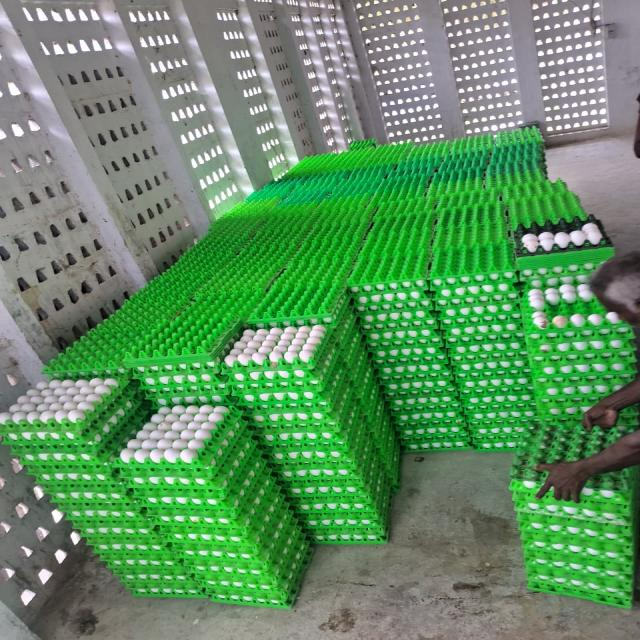egg_tray: (14, 398, 151, 544), (45, 258, 198, 378), (133, 448, 293, 556), (135, 451, 293, 551), (257, 384, 397, 482), (229, 316, 369, 412), (11, 396, 147, 492), (230, 316, 372, 406), (2, 384, 139, 474), (509, 410, 636, 501), (125, 288, 260, 372), (6, 389, 140, 472), (131, 221, 252, 312), (519, 514, 636, 606), (251, 391, 395, 465), (185, 450, 298, 544), (136, 452, 279, 526), (102, 261, 205, 362), (130, 224, 244, 315), (134, 454, 278, 524), (518, 503, 636, 587), (143, 219, 259, 304), (442, 302, 530, 413), (132, 455, 273, 524), (510, 406, 637, 481), (518, 512, 636, 591), (27, 420, 132, 508), (121, 430, 254, 499), (150, 482, 295, 545), (348, 186, 434, 292), (161, 501, 300, 566), (119, 405, 239, 478), (149, 220, 254, 303), (125, 318, 237, 394), (43, 304, 157, 378), (210, 220, 294, 319), (150, 486, 293, 544), (193, 539, 311, 608), (29, 432, 131, 510), (224, 182, 317, 266), (195, 542, 311, 608), (348, 210, 433, 300), (203, 538, 311, 608), (194, 543, 310, 608), (228, 350, 353, 410), (510, 472, 637, 531), (44, 476, 152, 544), (228, 352, 351, 410), (248, 256, 349, 326), (517, 512, 633, 572), (252, 388, 362, 451), (532, 338, 633, 406), (530, 318, 634, 384), (171, 518, 303, 570), (523, 276, 630, 340), (0, 378, 121, 434), (186, 199, 277, 271), (428, 154, 505, 239), (43, 462, 140, 528), (279, 440, 384, 500), (223, 324, 331, 380), (297, 479, 391, 543), (286, 460, 387, 519), (534, 360, 636, 417), (292, 199, 372, 270), (251, 387, 355, 441), (525, 556, 633, 608), (512, 482, 637, 526), (453, 350, 532, 419), (532, 346, 636, 398), (429, 176, 507, 245), (428, 240, 515, 301), (348, 240, 429, 304), (523, 290, 619, 340), (267, 421, 369, 468), (527, 305, 632, 350), (428, 165, 503, 228), (377, 326, 454, 387), (501, 178, 587, 232), (270, 429, 376, 472), (460, 376, 535, 436), (433, 266, 518, 318), (428, 240, 516, 290), (370, 344, 451, 398), (528, 568, 632, 608), (429, 154, 487, 224), (95, 390, 147, 467), (535, 378, 623, 423), (447, 332, 529, 380), (527, 329, 633, 366), (447, 336, 528, 384), (516, 216, 611, 256), (376, 356, 455, 404), (487, 128, 545, 192), (433, 198, 507, 248), (133, 358, 224, 398), (439, 292, 521, 336), (524, 334, 633, 367), (52, 494, 151, 530), (368, 336, 447, 381), (381, 362, 457, 408), (535, 380, 627, 418), (363, 396, 400, 489), (42, 340, 126, 380), (532, 352, 635, 384), (391, 408, 468, 450), (338, 316, 377, 398), (365, 328, 443, 368), (80, 520, 164, 557), (517, 246, 614, 278), (437, 283, 520, 320), (462, 386, 535, 428), (305, 508, 389, 544), (391, 396, 464, 437), (85, 528, 172, 562), (114, 566, 205, 598), (305, 508, 388, 543), (41, 348, 129, 380), (459, 372, 533, 410), (456, 360, 530, 398), (351, 280, 432, 314), (119, 564, 204, 596), (458, 372, 533, 408), (363, 324, 442, 358), (468, 410, 535, 450), (467, 410, 534, 449), (30, 462, 121, 490), (392, 404, 465, 438), (101, 547, 183, 577), (433, 280, 519, 308), (443, 318, 523, 348), (459, 378, 533, 410), (365, 326, 441, 357), (520, 260, 601, 289), (385, 376, 458, 408), (119, 571, 205, 598), (440, 300, 521, 328), (397, 421, 470, 452), (581, 468, 637, 508), (305, 510, 386, 537), (467, 404, 537, 435), (449, 338, 526, 366), (387, 384, 461, 413), (455, 356, 531, 384), (377, 360, 452, 388), (465, 402, 537, 431), (370, 341, 447, 368), (359, 308, 437, 334), (141, 380, 225, 404), (143, 384, 233, 406), (399, 420, 468, 447), (382, 375, 456, 398), (470, 420, 525, 450), (151, 387, 229, 407), (369, 439, 398, 486), (403, 437, 471, 452), (473, 436, 519, 450), (558, 362, 607, 371), (349, 138, 377, 152), (589, 474, 616, 488), (538, 492, 562, 504), (581, 488, 614, 496), (34, 464, 47, 482), (87, 330, 102, 342), (165, 327, 177, 340), (283, 338, 295, 350), (67, 340, 80, 351), (294, 249, 307, 260), (120, 518, 132, 526), (523, 480, 536, 487), (44, 481, 54, 490), (315, 480, 326, 488), (48, 464, 58, 472), (605, 320, 615, 328), (289, 328, 299, 336), (211, 222, 217, 234), (388, 430, 395, 440), (527, 566, 538, 572), (506, 400, 517, 406), (367, 231, 374, 240), (460, 231, 467, 240), (439, 405, 451, 410), (371, 298, 383, 303), (250, 328, 269, 331), (103, 348, 108, 358), (29, 464, 35, 472), (285, 227, 290, 236), (114, 514, 121, 520), (497, 230, 504, 236), (559, 347, 567, 352), (124, 424, 129, 432), (85, 346, 90, 354), (491, 176, 499, 181), (491, 325, 504, 328), (99, 356, 104, 363), (202, 308, 209, 313), (184, 556, 189, 563), (418, 200, 425, 205), (229, 341, 236, 346), (276, 236, 281, 243), (625, 506, 630, 512), (181, 537, 188, 541), (374, 220, 379, 225), (612, 535, 617, 540), (86, 354, 90, 360), (166, 336, 169, 344), (199, 564, 205, 568), (619, 328, 625, 332), (133, 412, 141, 415), (246, 334, 252, 338), (179, 258, 185, 262), (185, 556, 189, 562), (265, 346, 272, 349), (158, 308, 163, 312), (60, 352, 65, 356), (574, 567, 580, 570), (541, 348, 545, 352), (103, 466, 107, 470), (581, 496, 583, 504), (579, 284, 587, 286), (563, 285, 571, 287), (263, 336, 267, 340), (178, 507, 183, 510), (112, 551, 117, 554), (576, 571, 579, 576), (287, 263, 290, 268), (572, 254, 579, 256), (361, 301, 368, 303), (112, 448, 115, 452), (537, 329, 541, 332), (517, 429, 521, 432), (427, 384, 433, 386), (145, 287, 149, 290), (137, 410, 141, 413), (566, 512, 572, 514), (98, 325, 102, 328), (587, 509, 591, 512), (262, 484, 265, 488), (267, 372, 273, 374), (87, 332, 91, 335), (581, 290, 587, 292), (281, 333, 287, 335), (261, 464, 263, 470), (272, 408, 277, 410), (476, 325, 486, 326), (72, 344, 74, 349), (296, 198, 301, 200), (552, 412, 557, 414), (96, 472, 99, 475), (305, 492, 308, 495), (546, 290, 555, 291), (491, 190, 494, 193), (347, 269, 350, 272), (112, 446, 116, 448), (572, 562, 576, 564), (446, 322, 454, 323), (533, 508, 537, 510), (571, 504, 575, 506), (121, 336, 123, 340), (603, 506, 607, 508), (477, 222, 481, 224), (301, 502, 305, 504), (307, 486, 311, 488), (330, 480, 332, 484), (149, 478, 153, 480), (493, 184, 495, 188), (272, 228, 274, 232), (157, 304, 161, 306), (123, 486, 125, 490), (296, 216, 298, 220), (423, 406, 426, 408), (189, 522, 192, 524), (172, 513, 174, 516), (418, 218, 421, 220), (95, 336, 98, 338), (235, 371, 237, 374), (569, 507, 572, 509), (233, 231, 235, 234), (329, 250, 332, 252), (387, 182, 389, 185), (94, 498, 97, 500), (187, 402, 192, 403), (303, 498, 308, 499), (446, 322, 451, 323), (297, 345, 302, 346), (471, 334, 473, 336), (587, 486, 589, 488), (166, 512, 168, 514), (610, 514, 614, 515), (464, 160, 466, 162), (208, 446, 210, 448), (573, 282, 575, 284), (387, 300, 391, 301), (520, 352, 522, 354), (51, 475, 53, 477), (77, 456, 79, 458), (283, 328, 285, 330), (203, 537, 205, 539), (367, 343, 368, 346), (208, 271, 211, 272), (267, 502, 268, 504), (559, 565, 561, 566), (631, 484, 632, 486), (309, 495, 310, 497), (156, 339, 157, 341), (433, 318, 434, 320), (98, 325, 100, 326), (569, 507, 571, 508), (567, 298, 569, 299), (538, 229, 540, 230), (500, 176, 502, 177), (271, 225, 272, 227), (147, 378, 148, 379), (572, 354, 573, 355), (487, 236, 488, 237), (537, 229, 538, 230), (538, 347, 539, 348), (57, 474, 61, 474), (613, 319, 615, 319), (107, 416, 107, 416), (487, 334, 495, 334), (171, 310, 172, 310), (534, 312, 539, 312), (222, 600, 223, 600), (201, 564, 201, 566), (190, 537, 192, 537), (385, 239, 386, 239), (163, 377, 163, 377), (619, 487, 619, 487), (187, 450, 191, 450), (294, 488, 301, 488), (393, 301, 395, 301), (401, 297, 401, 297), (354, 354, 356, 354), (494, 157, 495, 157), (625, 541, 626, 541), (559, 536, 559, 536), (93, 470, 95, 470), (109, 567, 111, 567), (90, 341, 92, 341), (92, 330, 94, 330), (556, 512, 557, 512), (320, 538, 321, 538), (461, 268, 461, 270), (487, 177, 488, 177), (20, 456, 22, 456), (269, 341, 274, 341), (249, 341, 250, 341), (299, 338, 303, 338), (239, 336, 241, 336), (280, 328, 282, 328), (205, 312, 206, 312), (499, 298, 499, 298), (354, 154, 355, 154), (518, 361, 523, 361)
